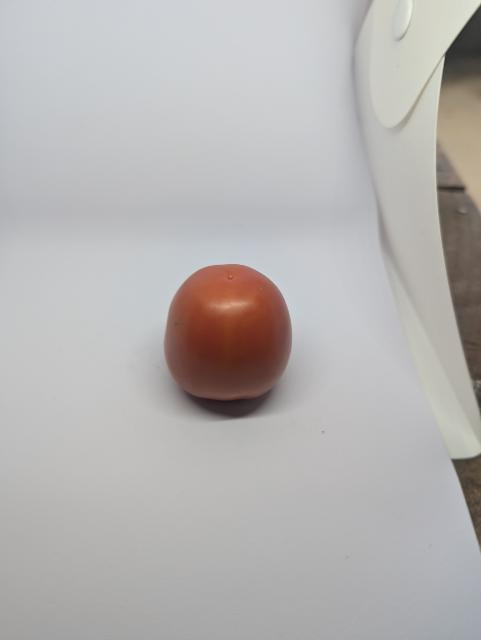red: (138, 252, 336, 423)
